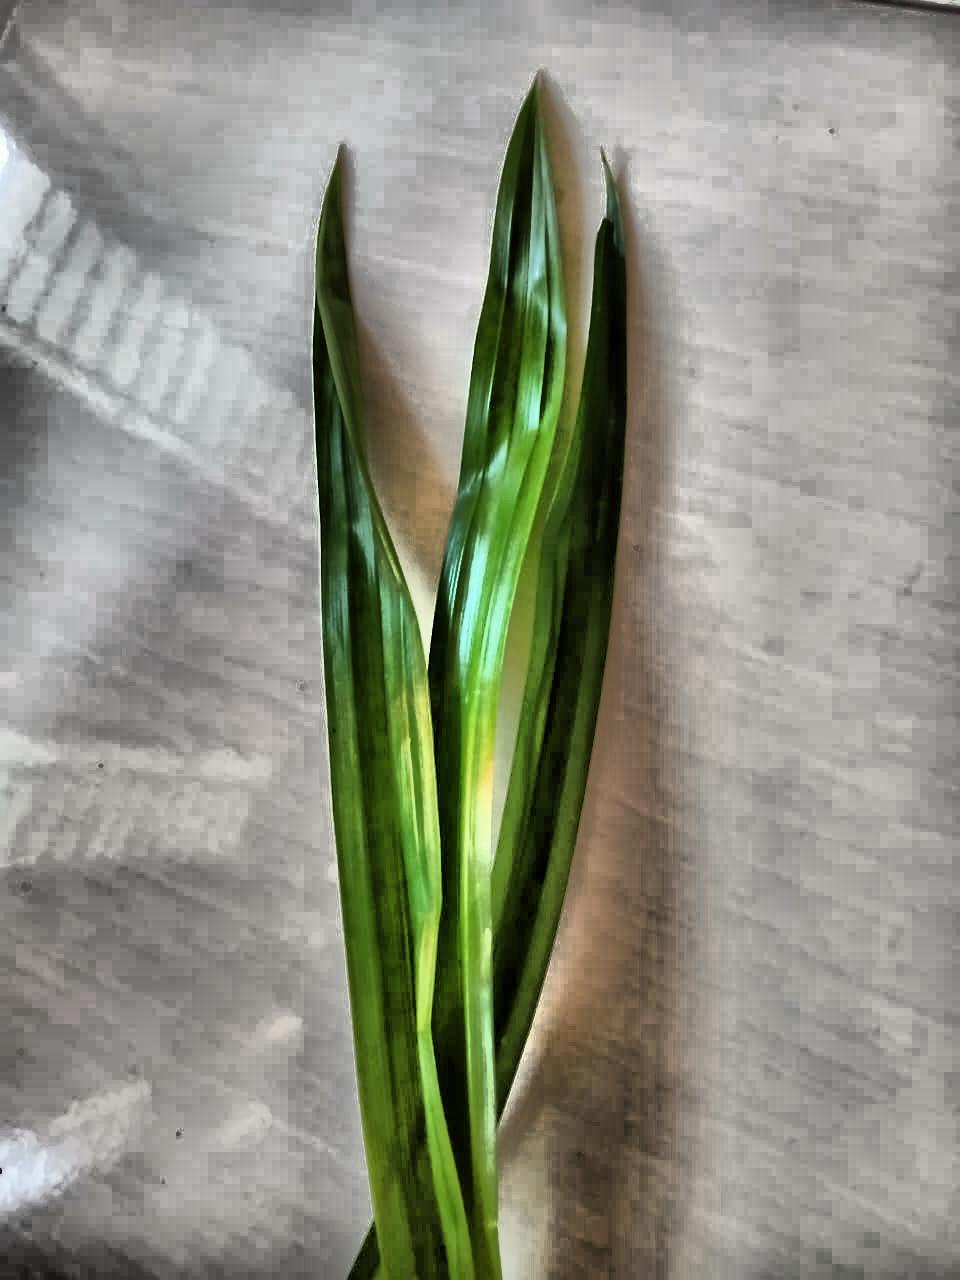daun pandan: (314, 79, 628, 1279)
